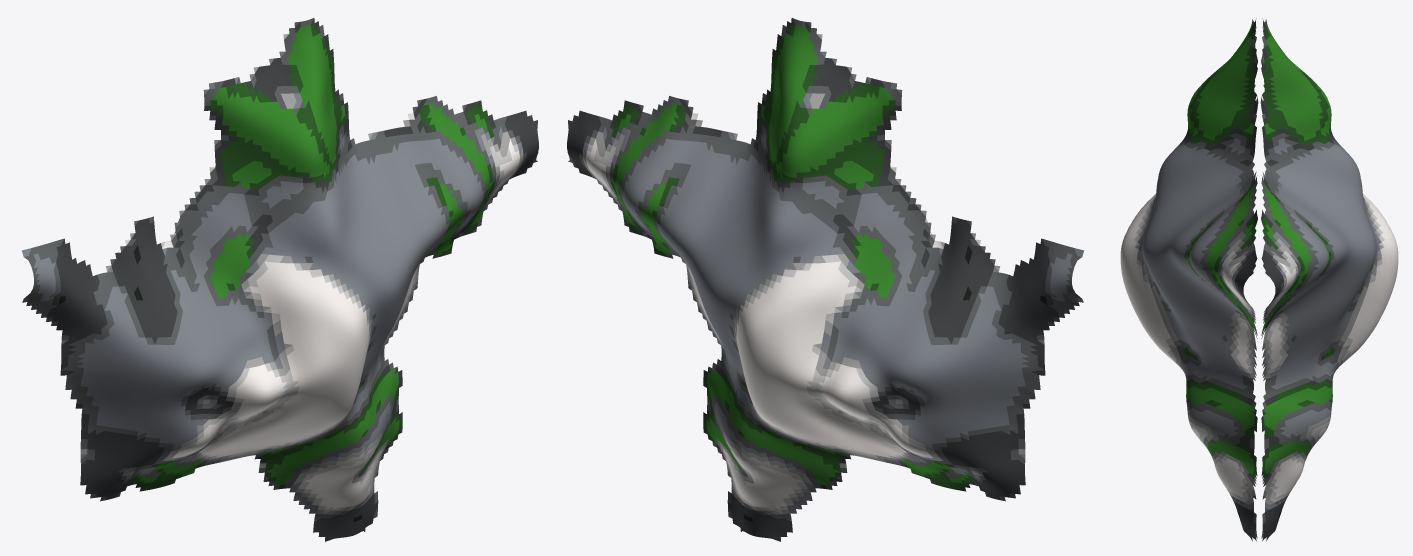
File: gorcobat.glb
3 views of the same model, side by side, from view 1: azimuth 30°, elevation 25°; view 2: azimuth 150°, elevation 25°; view 3: azimuth 270°, elevation 25° (orthographic). The views are drawn at different scales.
Visible parts, largest first — view 1: gorcobat; view 2: gorcobat; view 3: gorcobat.
Boxes of the visible parts, box(x1,y1,x2,y2) form: gorcobat: box(22, 18, 538, 541); gorcobat: box(567, 18, 1083, 541); gorcobat: box(1120, 18, 1398, 541).
Size of the model in its own units: 773 by 754 by 383.
